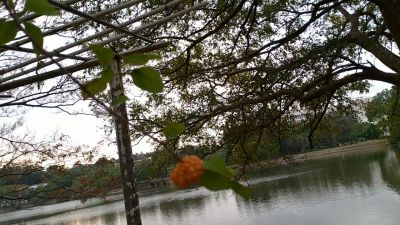eggs: (168, 154, 207, 189)
